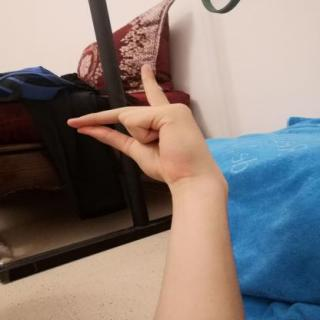TAA: (54, 57, 230, 191)
